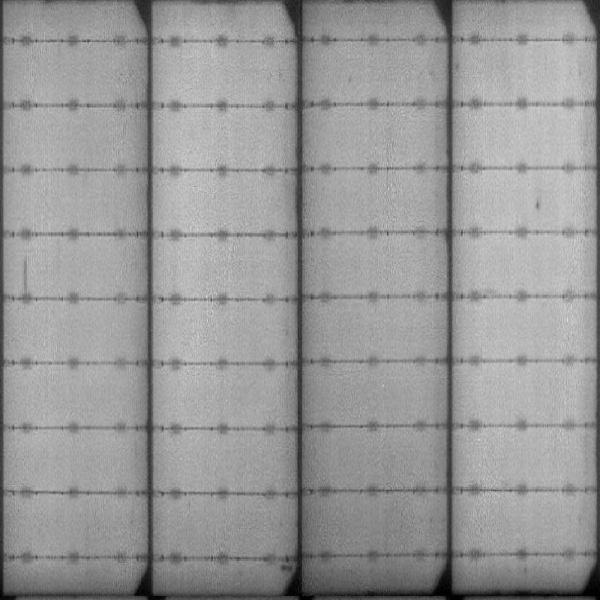scratch: (19, 257, 31, 298)
